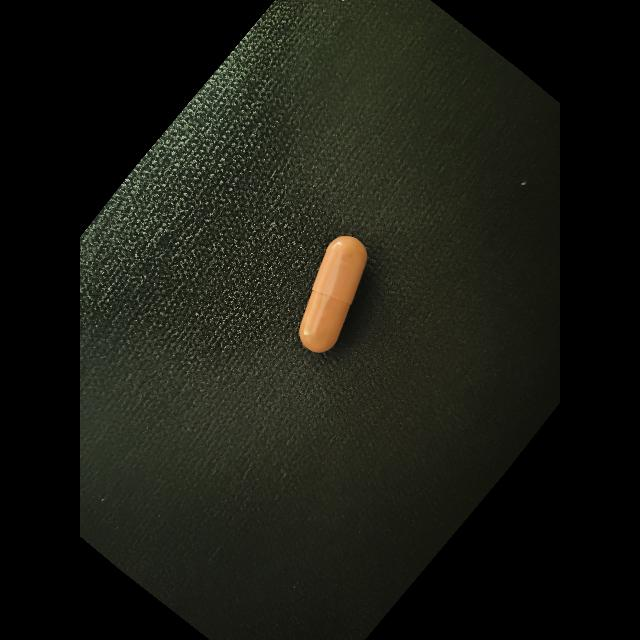Intact Capsule: (299, 236, 367, 352)
